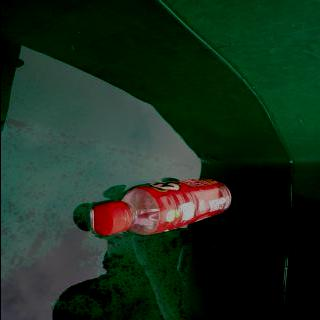bottle: (87, 177, 233, 237)
